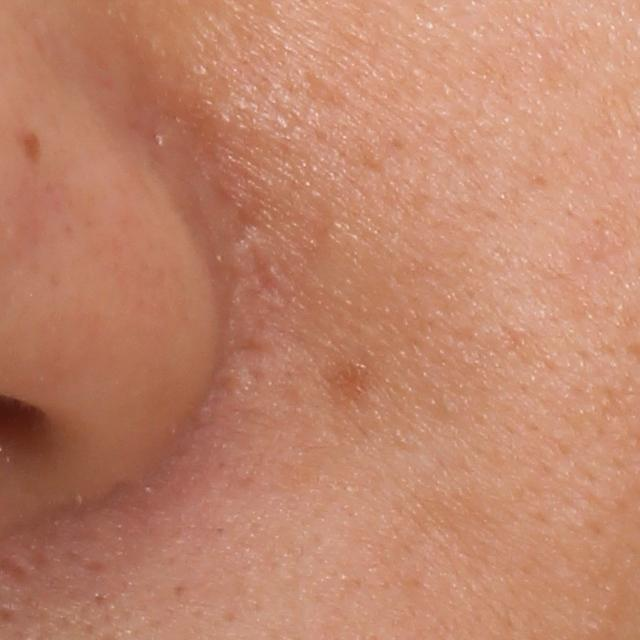atrophic_scar: (303, 64, 362, 113), (243, 245, 283, 305)
melasma: (326, 354, 379, 413), (14, 120, 45, 167)
